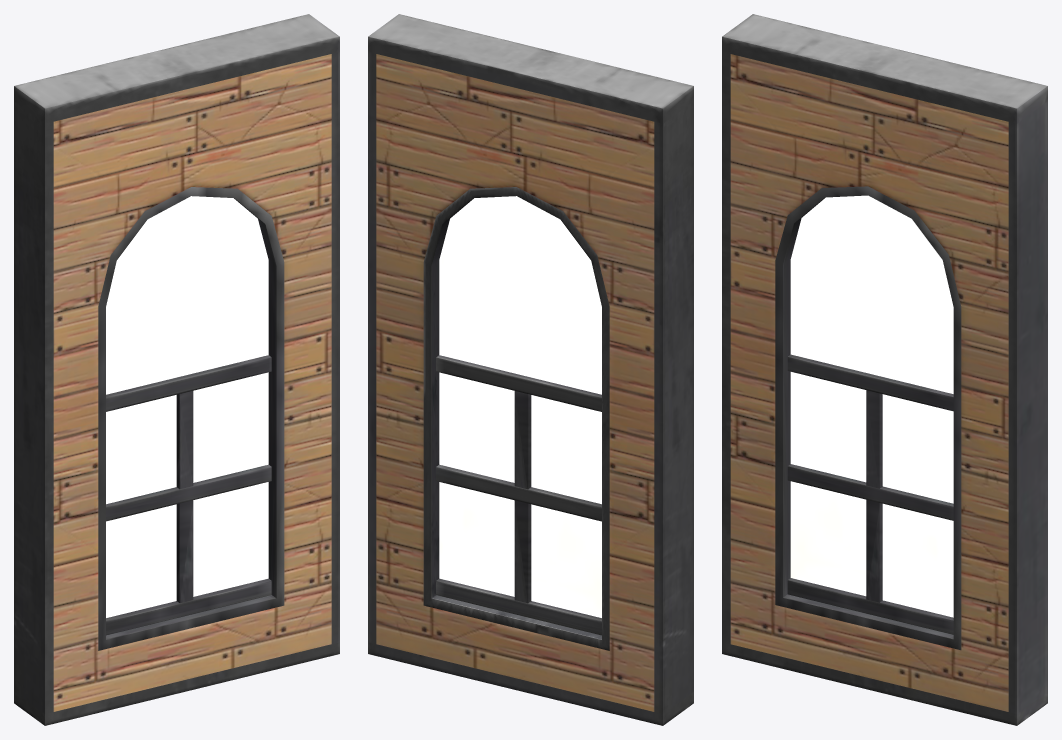
Rendered from 6b894fbe-cad9-4166-bd5f-a5098880dd93.glb.
The picture shows the model from 3 angles, left to right: view 1: azimuth 30°, elevation 25°; view 2: azimuth 150°, elevation 25°; view 3: azimuth 330°, elevation 25°; orthographic projection.
Parts seen in each view (by area): view 1: Wall window Module; view 2: Wall window Module; view 3: Wall window Module.
Part boxes in pixels (x1,y1,x2,y2): Wall window Module: (14,14,339,725); Wall window Module: (368,14,693,725); Wall window Module: (722,14,1047,725).
Size of what is drawn, in the model's own units: 2.25 by 4.5 by 0.4091.
1 material, 1 textured.
